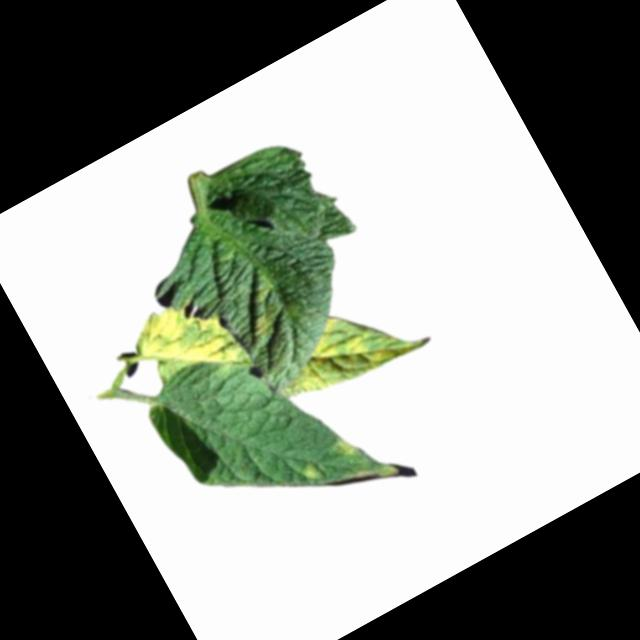Leaf_Mold: (265, 279, 431, 413), (124, 284, 246, 406), (242, 304, 282, 341), (294, 456, 326, 486), (329, 431, 359, 463)
